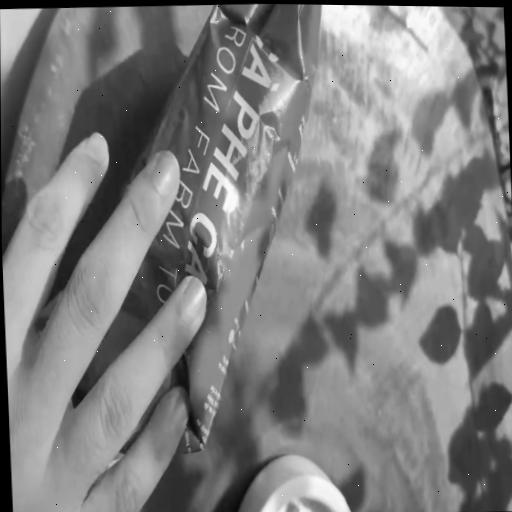cafe_xay: (74, 4, 321, 453)
